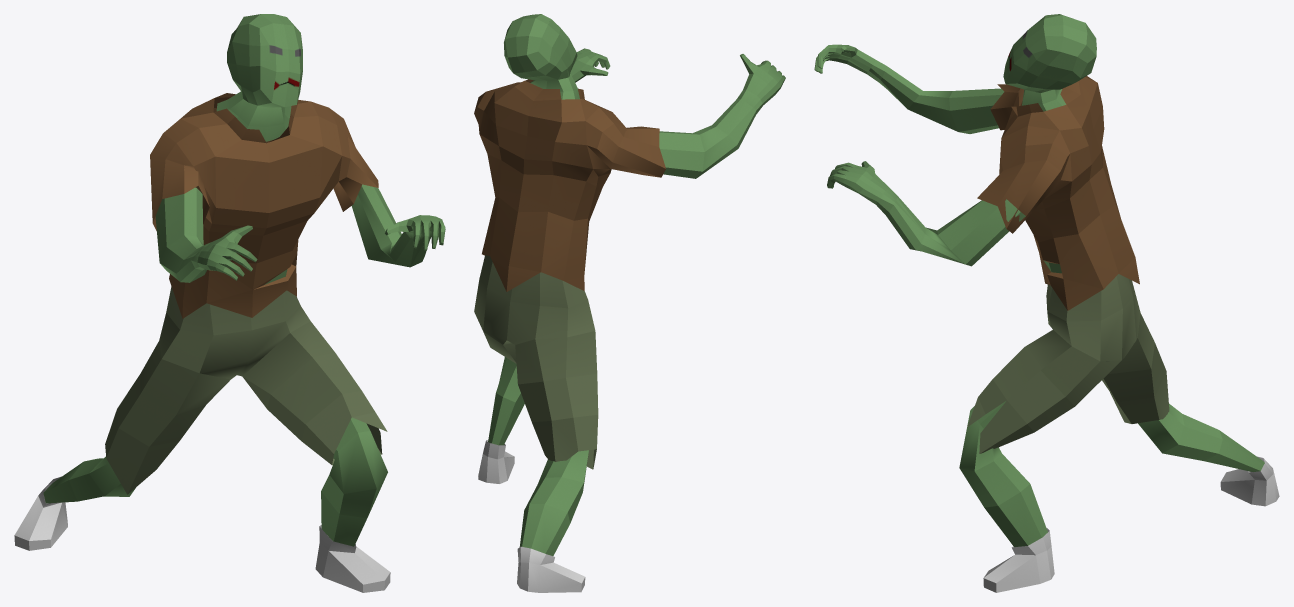
File: ZombieAttack(24).obj
The picture shows the model from 3 angles, left to right: view 1: azimuth 30°, elevation 25°; view 2: azimuth 150°, elevation 25°; view 3: azimuth 270°, elevation 25°; orthographic projection. The views are drawn at different scales.
Parts seen in each view (by area): view 1: Object001; view 2: Object001; view 3: Object001.
Part boxes in pixels (x1,y1,x2,y2): Object001: (14,14,445,592); Object001: (474,14,785,592); Object001: (814,14,1279,592).
Size of the model in its own units: 25.9 by 52.82 by 41.66.
